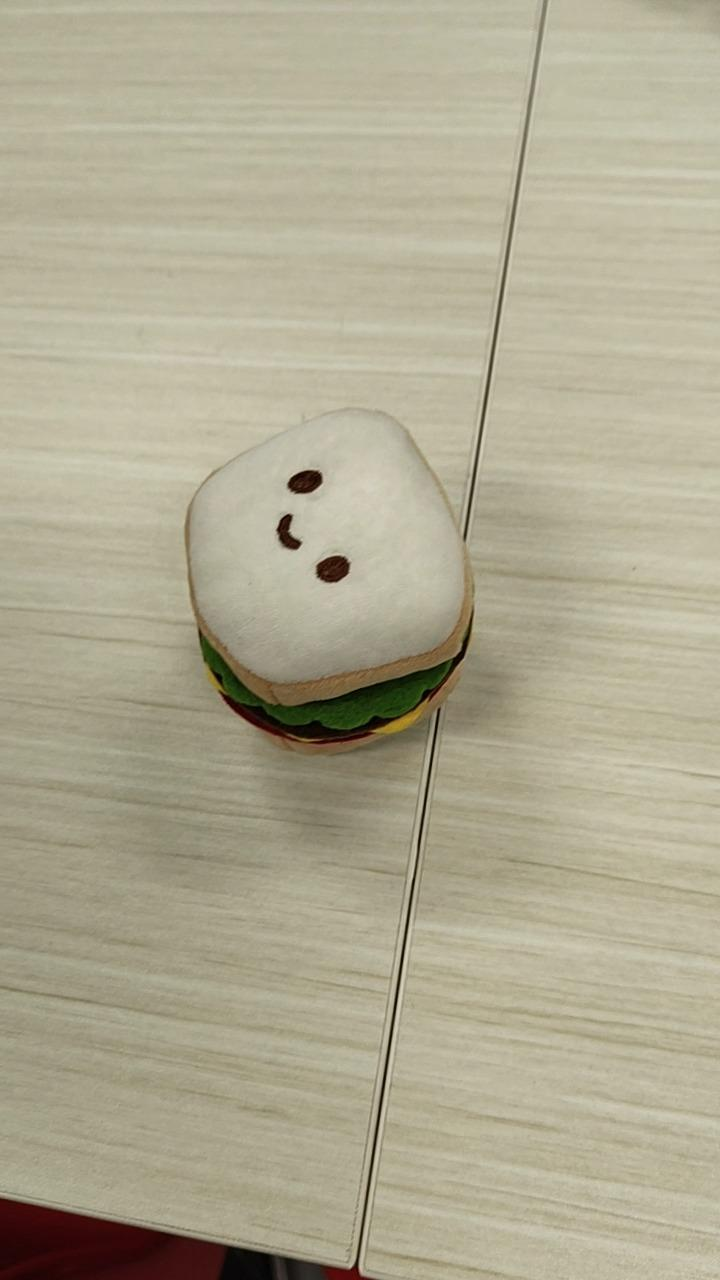objects: (183, 404, 476, 756)
